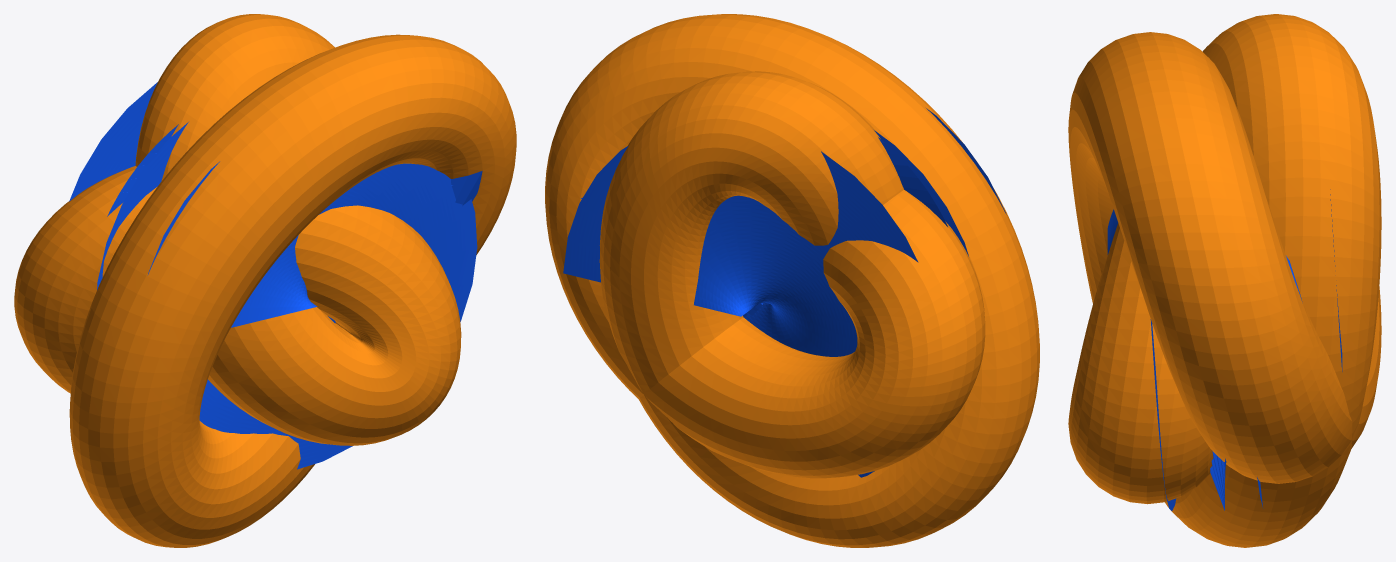
The picture shows the model from 3 angles, left to right: view 1: azimuth 30°, elevation 25°; view 2: azimuth 150°, elevation 25°; view 3: azimuth 270°, elevation 25°; orthographic projection. The views are drawn at different scales.
Size of the model in its own units: 3.78 by 3.78 by 2.
